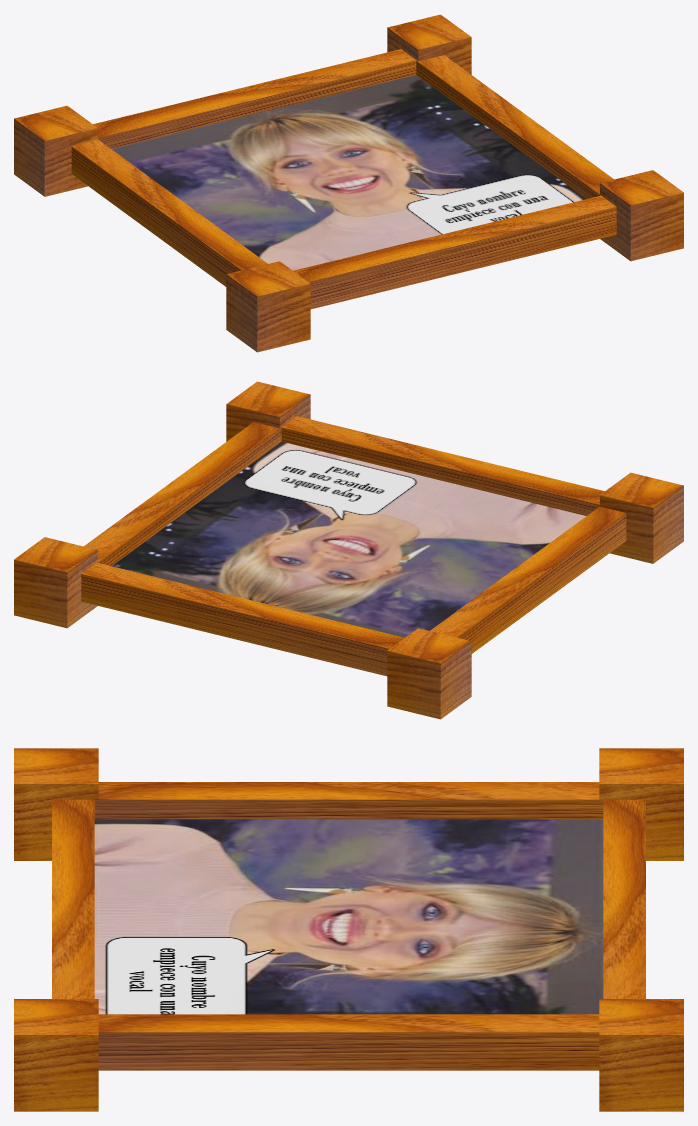
Rendered from Ins03.fbx.
3 renders of one model, top to bottom at view 1: azimuth 30°, elevation 25°; view 2: azimuth 150°, elevation 25°; view 3: azimuth 270°, elevation 25°, orthographic. The views are drawn at different scales.
Visible parts, largest first — view 1: Plano.002; view 2: Plano.002; view 3: Plano.002.
Part boxes in pixels (x1,y1,x2,y2): Plano.002: (14,14,683,352); Plano.002: (14,381,683,719); Plano.002: (14,748,683,1111).
Bounding box in the file's own units: 80 × 10 × 79.
